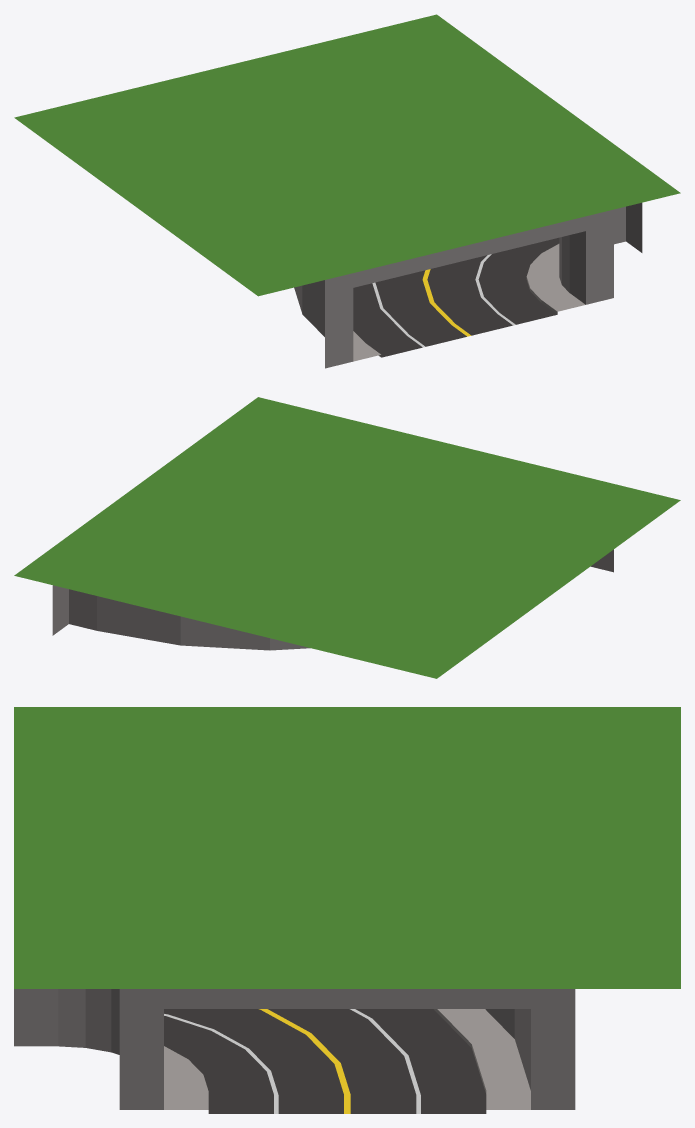
File: tiles-nb_tile-mainroad-tunnel-curve-nb.fbx
3 views of the same model, one above another, from view 1: azimuth 30°, elevation 25°; view 2: azimuth 150°, elevation 25°; view 3: azimuth 270°, elevation 25° (orthographic). The views are drawn at different scales.
Visible parts, largest first — view 1: tiles_nb_tile_mainroad_tunnel_curve_nb; view 2: tiles_nb_tile_mainroad_tunnel_curve_nb; view 3: tiles_nb_tile_mainroad_tunnel_curve_nb.
Boxes of the visible parts, x1,y1,x2,y2 form: tiles_nb_tile_mainroad_tunnel_curve_nb: (14,14,680,368); tiles_nb_tile_mainroad_tunnel_curve_nb: (14,397,680,678); tiles_nb_tile_mainroad_tunnel_curve_nb: (14,707,680,1113).
Bounding box in the file's own units: 200 × 41.33 × 200.
